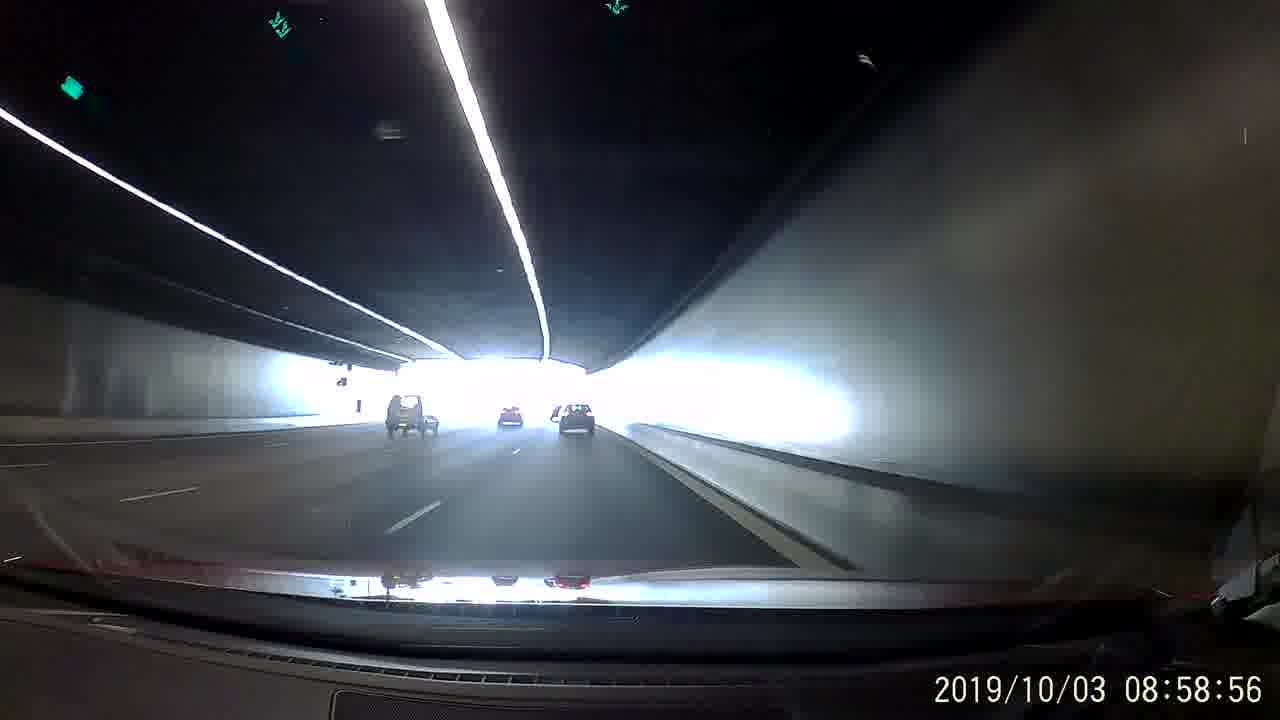car: (556, 398, 597, 437), (495, 402, 527, 431)
